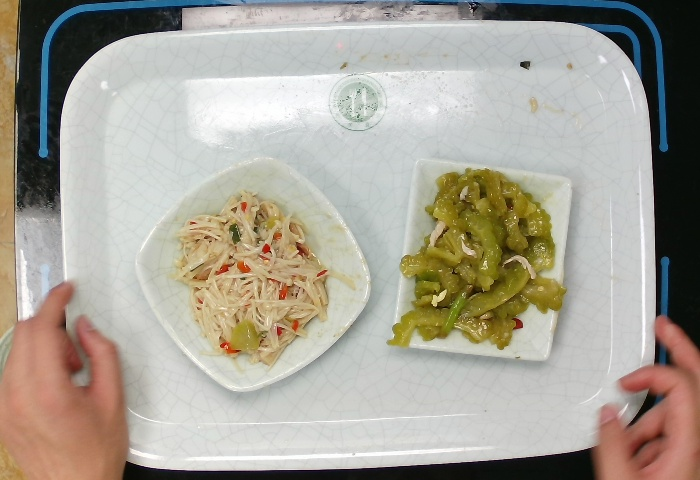WCQzf-Da_Si_Fang_Die: (131, 152, 375, 395)
WCQzf-Ru_Ci_Si_Fang_Die: (386, 154, 577, 365)
